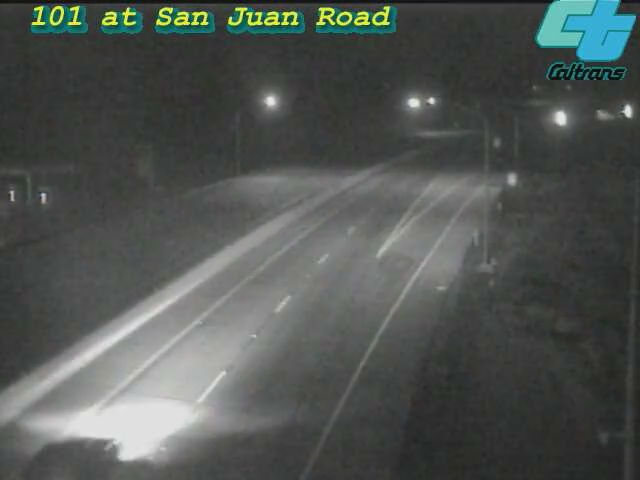vehicle: (8, 405, 118, 480), (580, 91, 630, 141), (535, 94, 585, 144), (601, 86, 640, 136)
